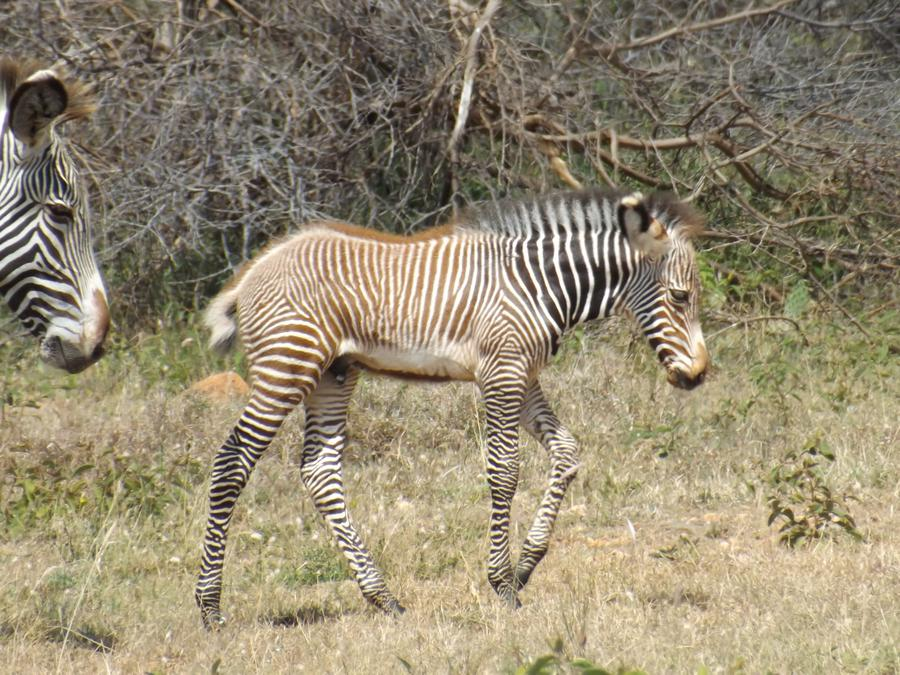zebra_grevys: (235, 216, 540, 372)
